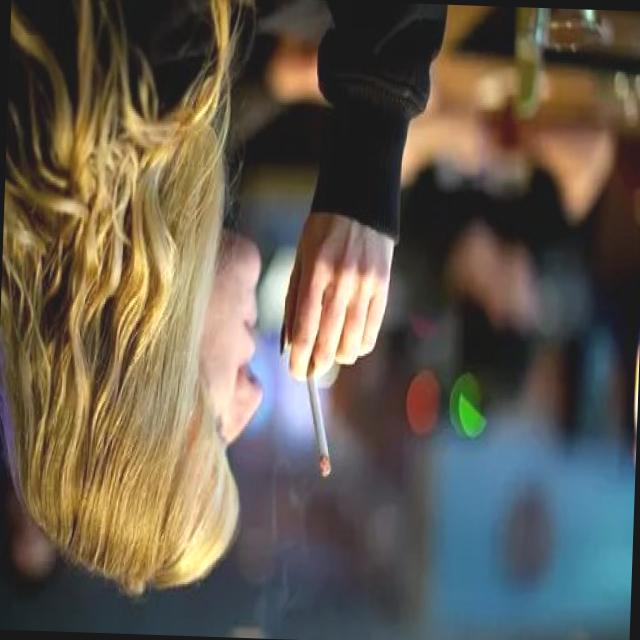cigarette: (296, 364, 338, 482)
